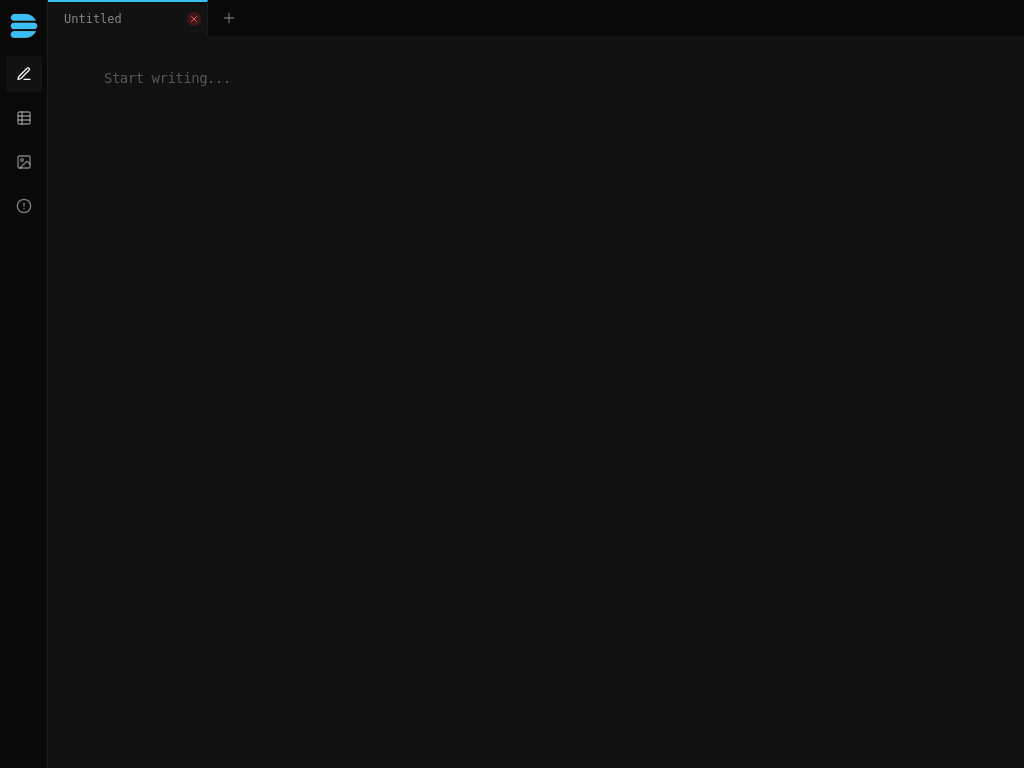
it: TabsBar › closes the tab after confirmation
Click the button named "New tab" at (229, 18), box [209,0,249,36]
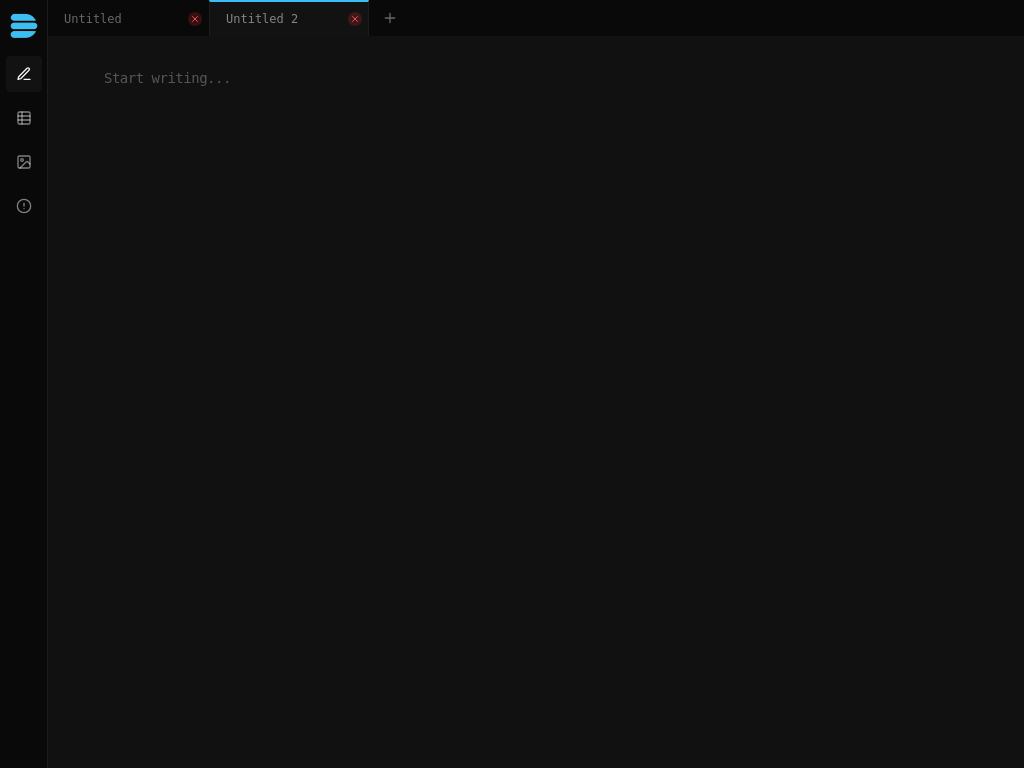
Click the button named "Close tab" next to "Untitled 2" at (355, 19), box [348,12,362,26]
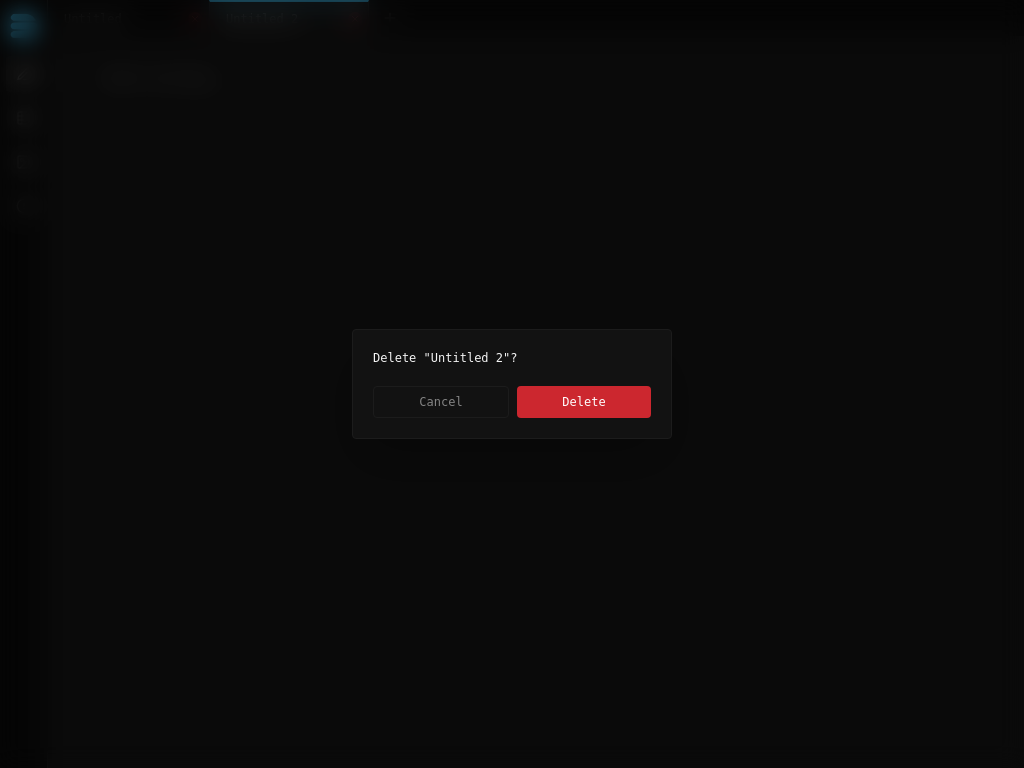
Click the button "Delete" at (584, 402), box [517,386,651,418]
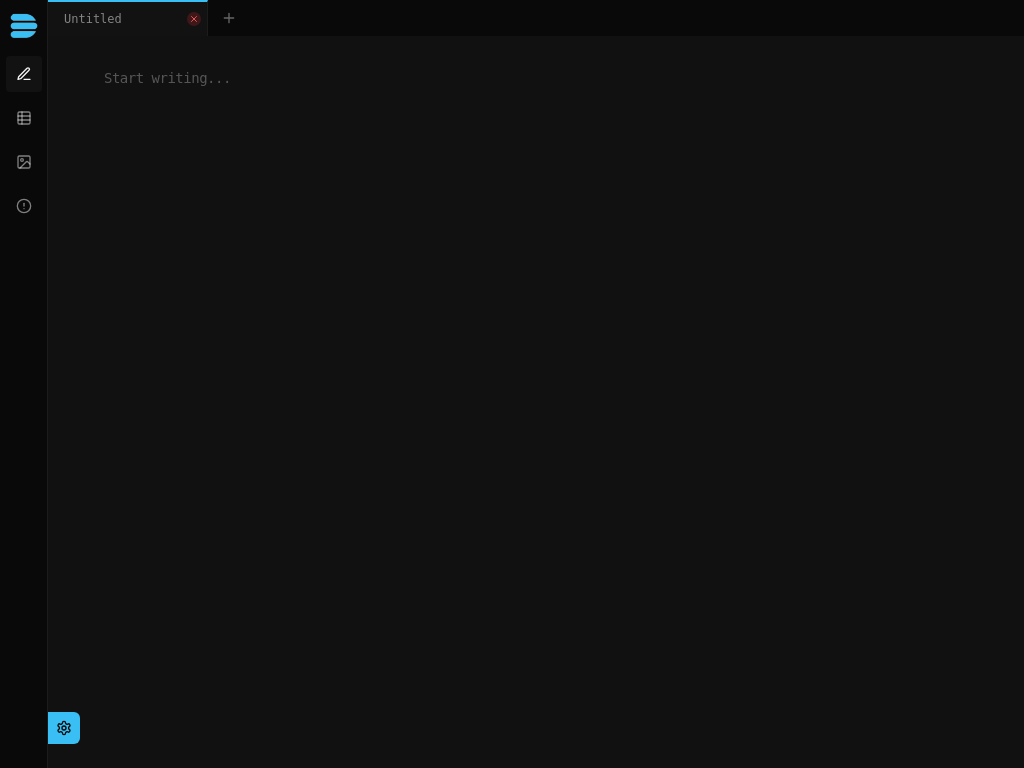
Expected: the number of buttons named "Close tab" is 1, [187,12,201,26]
